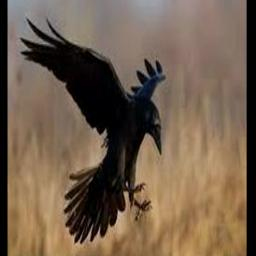Crow: (21, 15, 165, 244)
